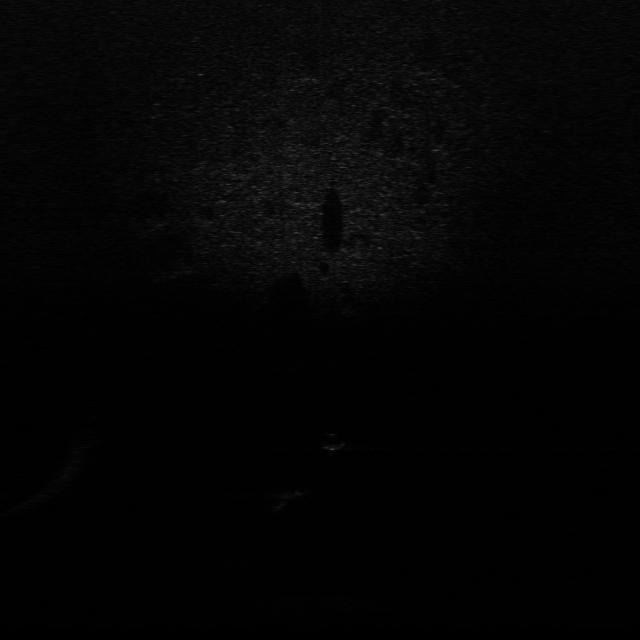ball: (318, 429, 351, 452)
square cage: (266, 487, 310, 512)
